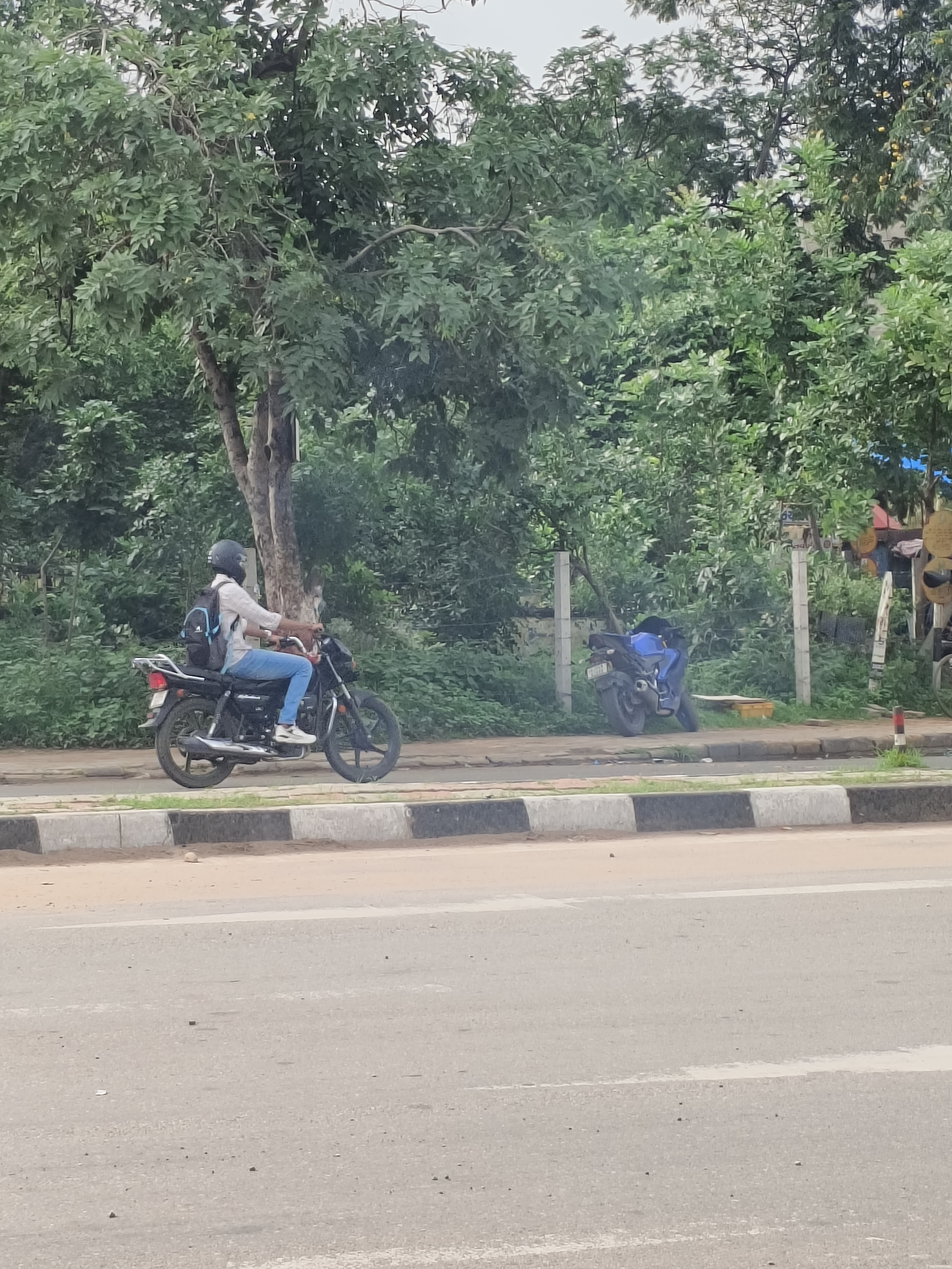BikeWithRider: (128, 534, 420, 793)
Helmet: (200, 537, 268, 597)
